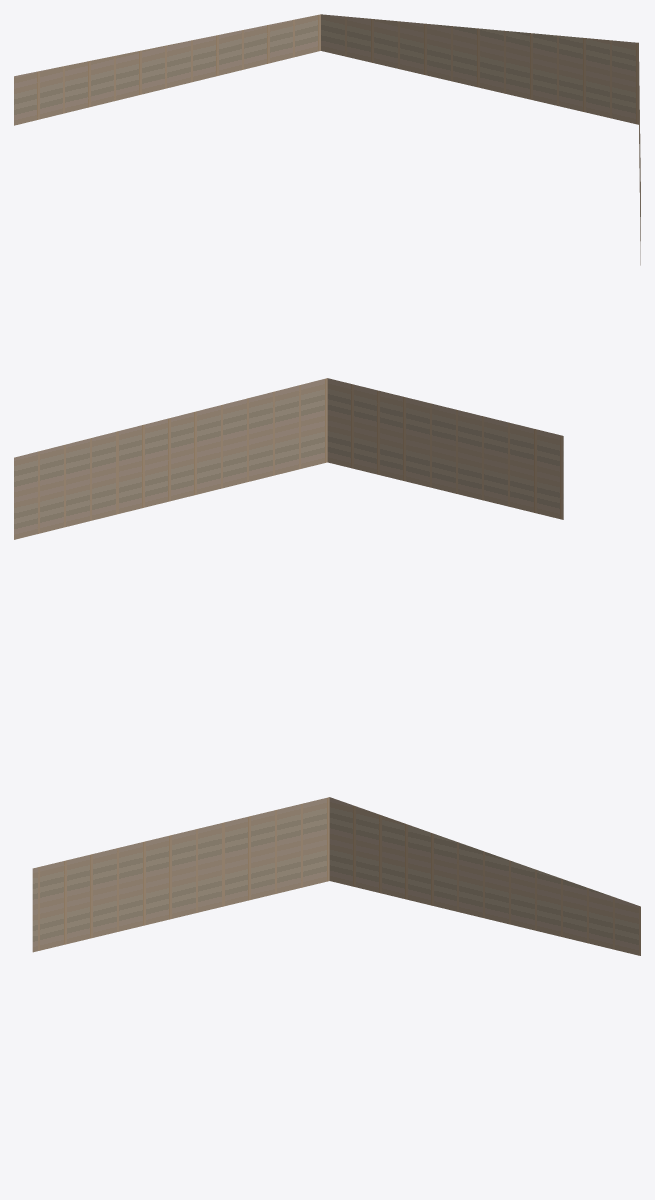
File: kd_connection_town-ground_surface_2_33.glb
The picture shows the model from 3 angles, top to bottom: view 1: azimuth 30°, elevation 25°; view 2: azimuth 150°, elevation 25°; view 3: azimuth 270°, elevation 25°; orthographic projection.
Parts seen in each view (by area): view 1: kd_connection_town-ground_surface_2_33; view 2: kd_connection_town-ground_surface_2_33; view 3: kd_connection_town-ground_surface_2_33.
Boxes of the visible parts, x1=… form: kd_connection_town-ground_surface_2_33: x1=14, y1=14, x2=640, y2=265; kd_connection_town-ground_surface_2_33: x1=14, y1=378, x2=563, y2=539; kd_connection_town-ground_surface_2_33: x1=32, y1=797, x2=640, y2=955.
Bounding box in the file's own units: 19.04 × 2.46 × 16.55.
1 material, 1 textured.
